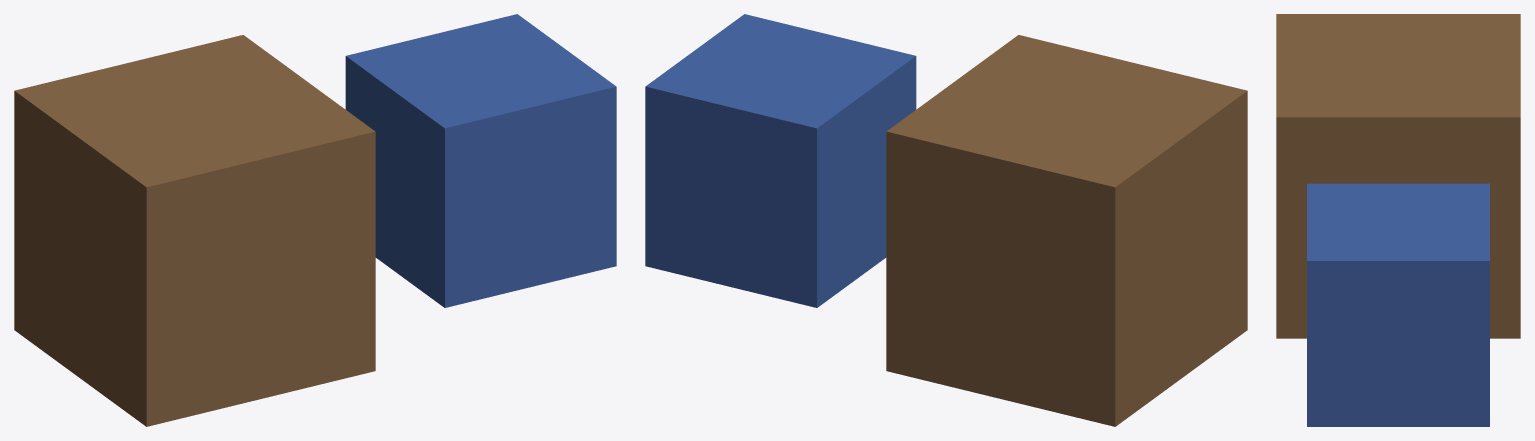
Rendered from test-multiroot-offset.glb.
The picture shows the model from 3 angles, left to right: view 1: azimuth 30°, elevation 25°; view 2: azimuth 150°, elevation 25°; view 3: azimuth 270°, elevation 25°; orthographic projection. The views are drawn at different scales.
Parts seen in each view (by area): view 1: RootA, RootB; view 2: RootA, RootB; view 3: RootA, RootB.
Boxes of the visible parts, box(x1,y1,x2,y2) form: RootA: box(14, 35, 375, 426); RootB: box(345, 14, 616, 307); RootA: box(886, 35, 1247, 426); RootB: box(645, 14, 916, 307); RootA: box(1276, 14, 1520, 338); RootB: box(1307, 183, 1489, 426).
Bounding box in the file's own units: 0.85 × 0.4 × 0.4.
